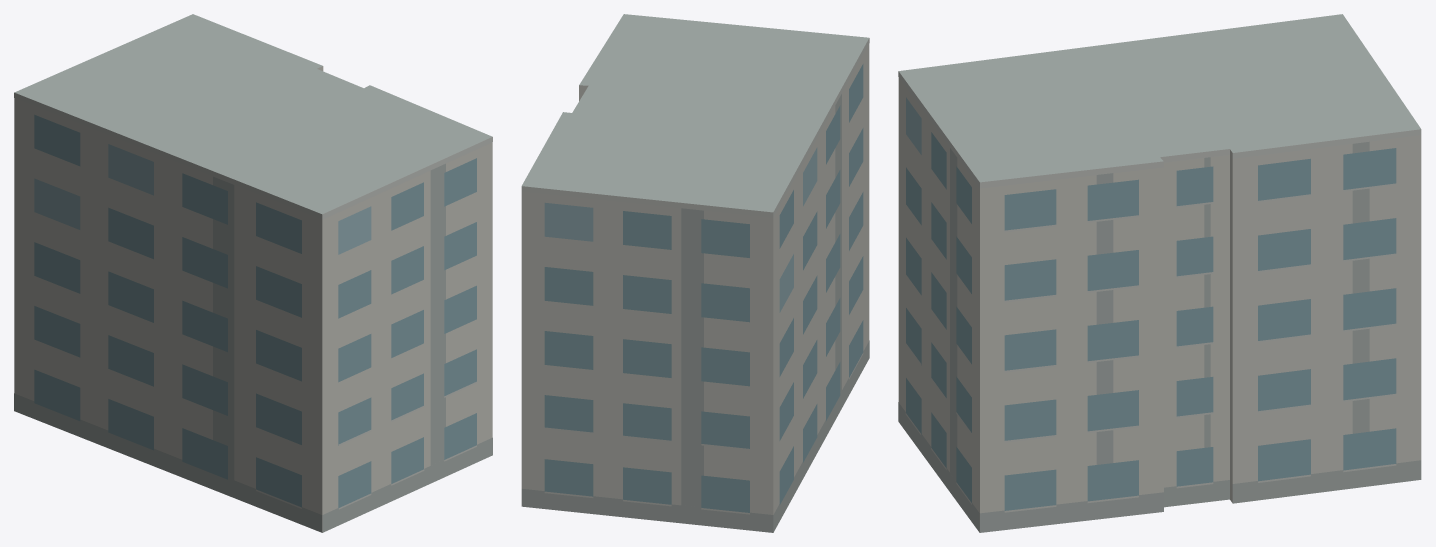
The model's file is survey-upis-32967241.glb.
3 renders of one model, left to right at view 1: azimuth 30°, elevation 25°; view 2: azimuth 150°, elevation 25°; view 3: azimuth 270°, elevation 25°, orthographic. The views are drawn at different scales.
Parts seen in each view (by area): view 1: survey-upis-32967241.tmp; view 2: survey-upis-32967241.tmp; view 3: survey-upis-32967241.tmp.
Part boxes in pixels (x1,y1,x2,y2): survey-upis-32967241.tmp: (14, 14, 492, 532); survey-upis-32967241.tmp: (521, 14, 869, 532); survey-upis-32967241.tmp: (898, 14, 1421, 532).
Size of the model in its own units: 14.74 by 14.3 by 19.34.
